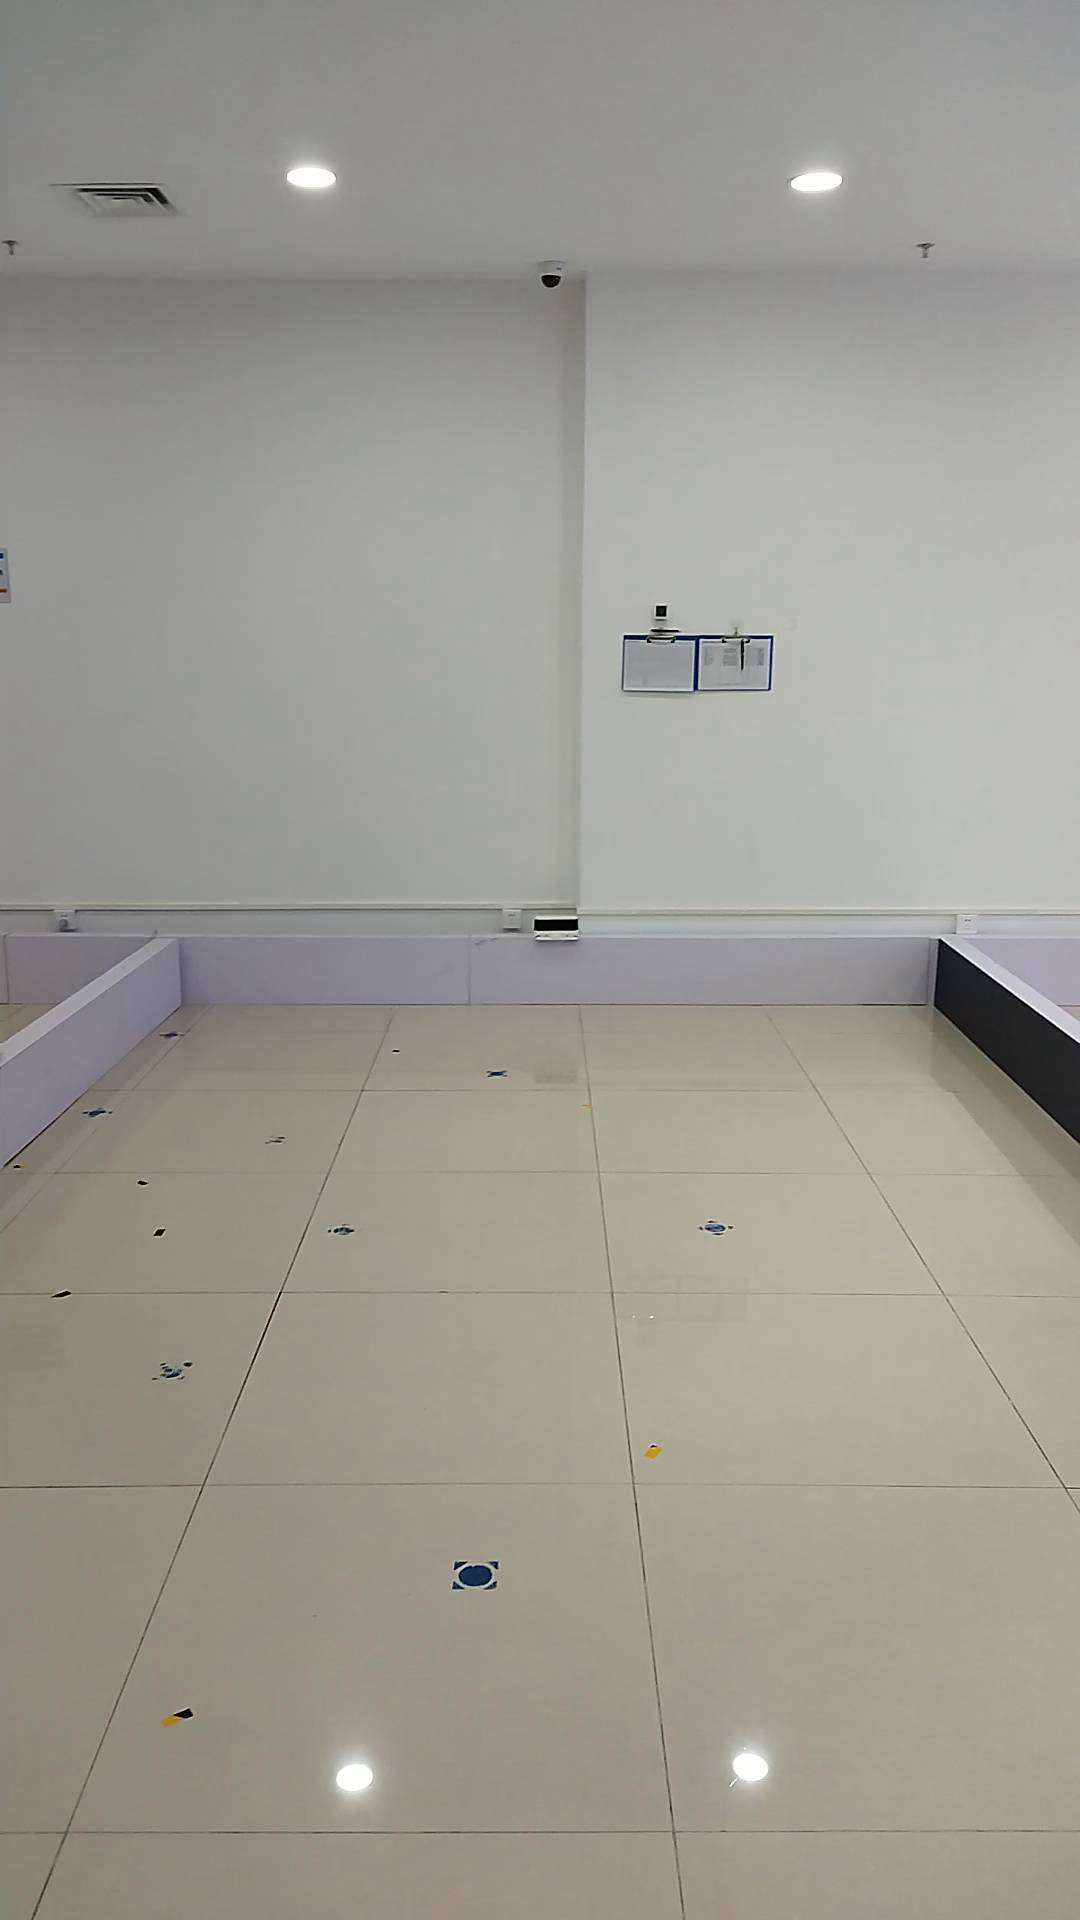recharge seat: (527, 913, 584, 944)
